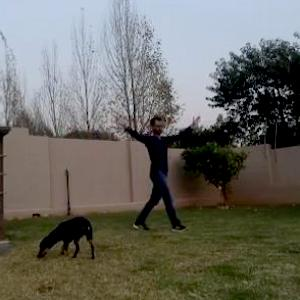takeoff: (110, 110, 218, 230)
